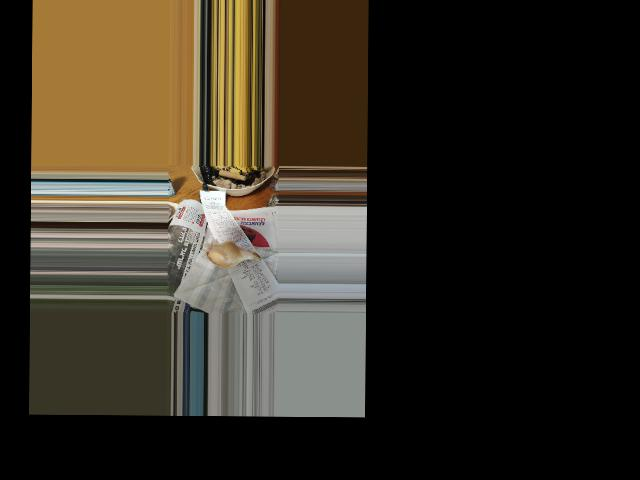onion: (203, 241, 249, 266)
